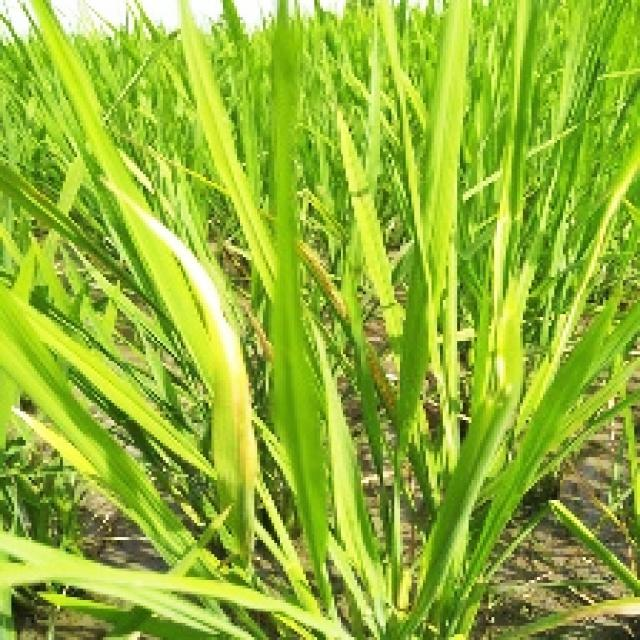unhealth: (184, 254, 279, 524)
